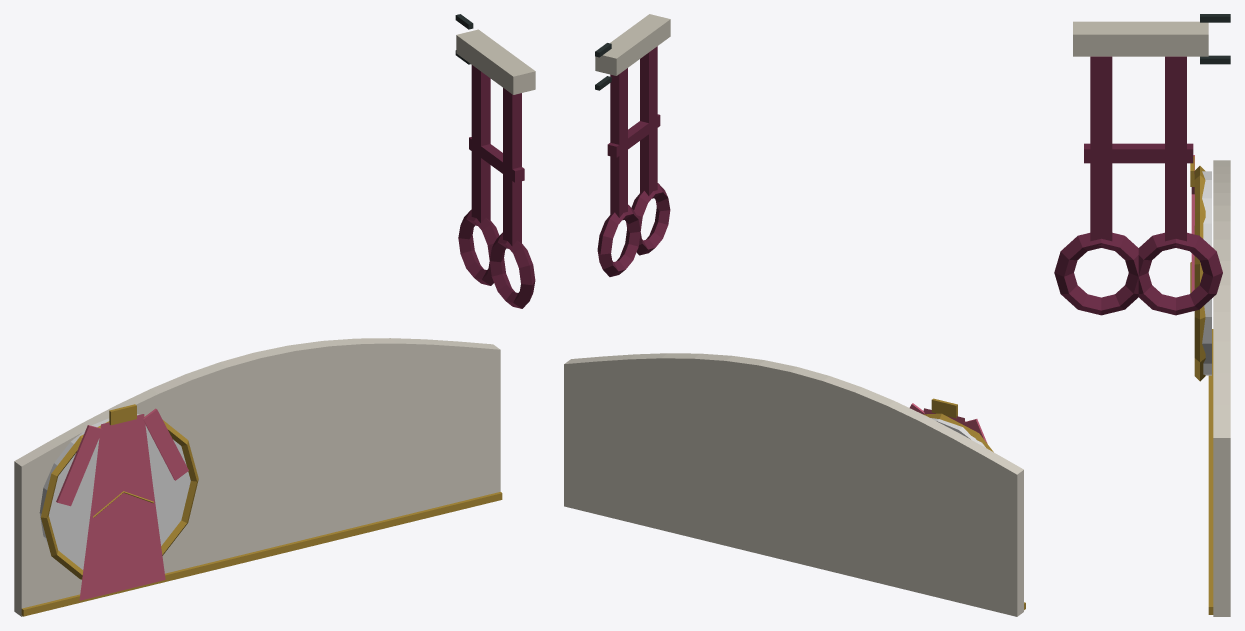
Rendered from bang_nha_may_thanh_thao_32.glb.
The picture shows the model from 3 angles, left to right: view 1: azimuth 30°, elevation 25°; view 2: azimuth 150°, elevation 25°; view 3: azimuth 270°, elevation 25°; orthographic projection. The views are drawn at different scales.
Visible parts, largest first — view 1: bang_nha_may_thanh_thao_32; view 2: bang_nha_may_thanh_thao_32; view 3: bang_nha_may_thanh_thao_32.
Part boxes in pixels (x1,y1,x2,y2): bang_nha_may_thanh_thao_32: (14, 14, 535, 616); bang_nha_may_thanh_thao_32: (564, 14, 1025, 616); bang_nha_may_thanh_thao_32: (1054, 14, 1230, 616).
Size of the model in its own units: 3 by 2.93 by 0.805.
